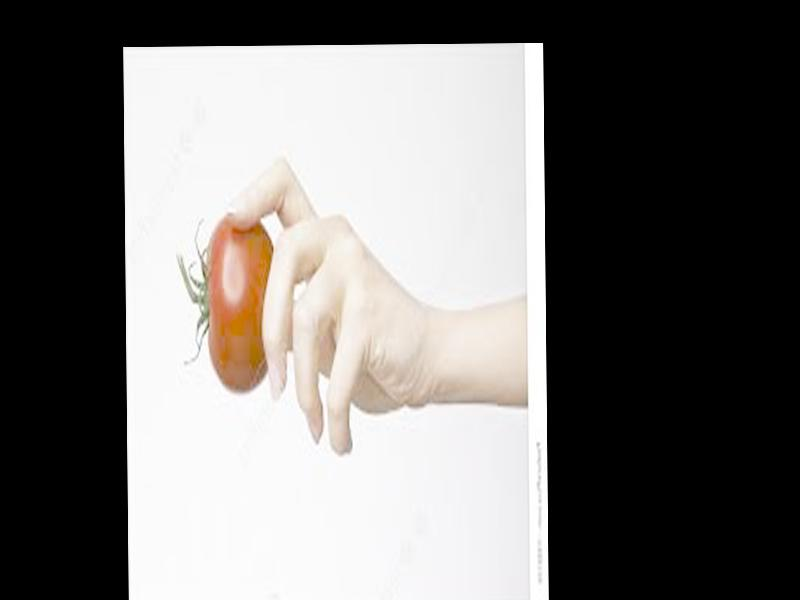Tomato: (177, 215, 273, 391)
